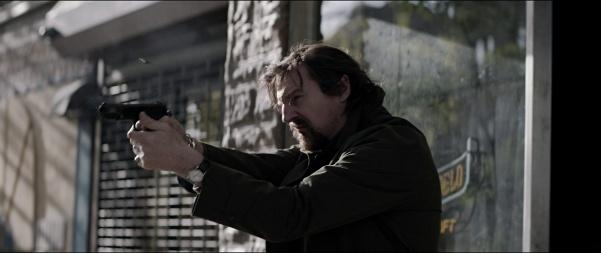Gun: (100, 101, 170, 129)
